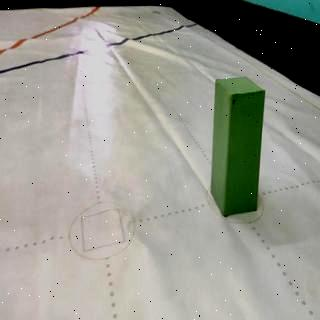greenbox: (212, 76, 266, 216)
